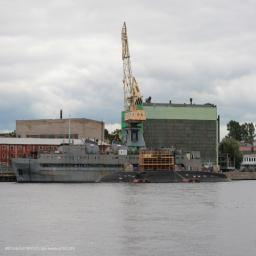submarine: (99, 171, 235, 184)
